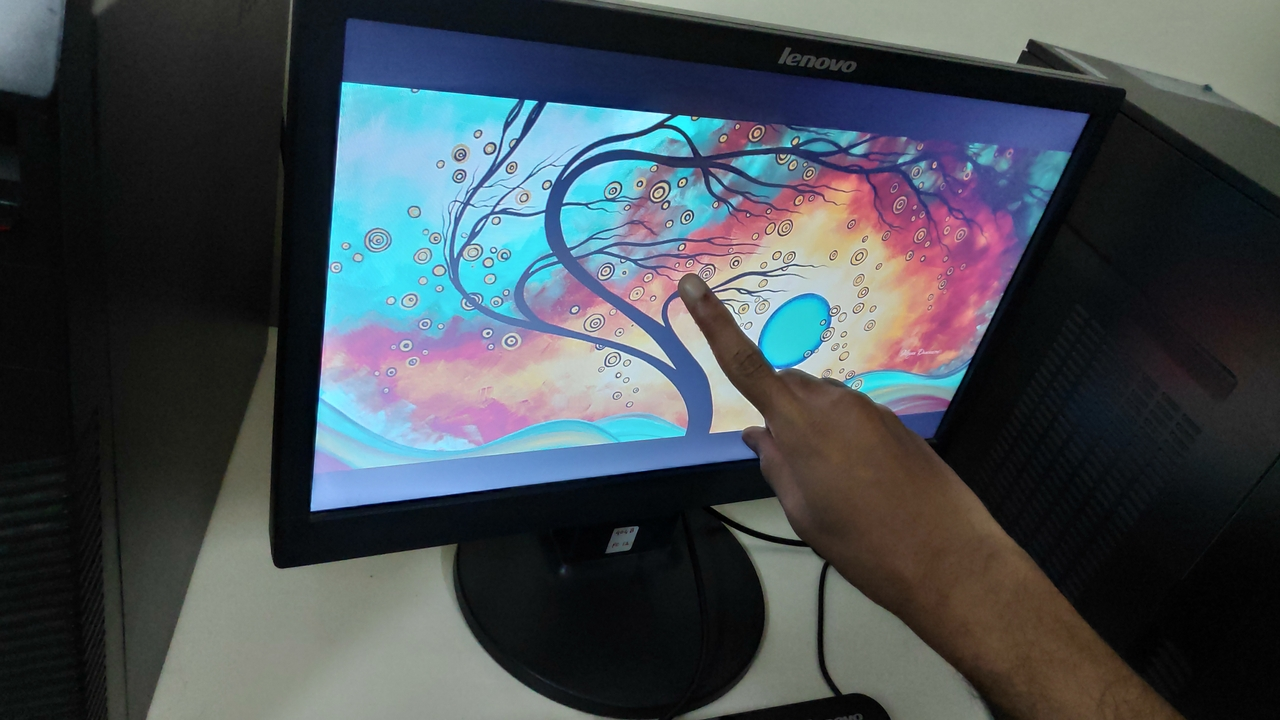fingertip: (666, 260, 732, 318)
